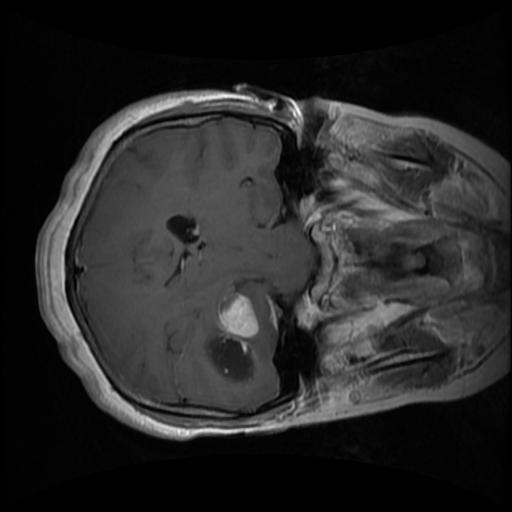meningioma: (210, 291, 257, 385)
